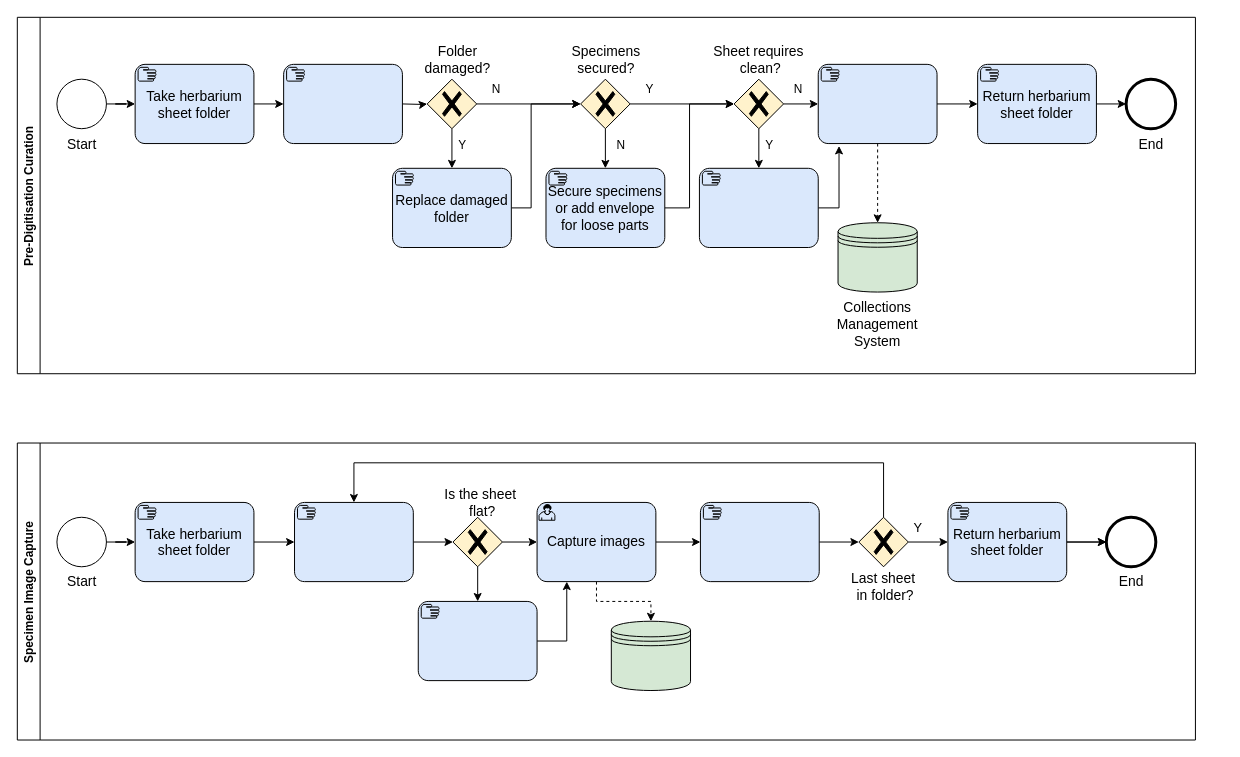
The diagram is 1240 pixels wide and 757 high, and some of its shapes have lost their labels. Here are the shapes that lost their labels. From the top down, the centre of each, then its label:
point 342,103: Check specimens are in correct folder
point 877,103: Add barcode to each specimen
point 758,207: Remove dirt with sponge
point 353,541: Place sheet in imaging station
point 759,541: Return sheet to folder
point 477,640: Add blue tack to the sheet
point 650,655: Image Folder
